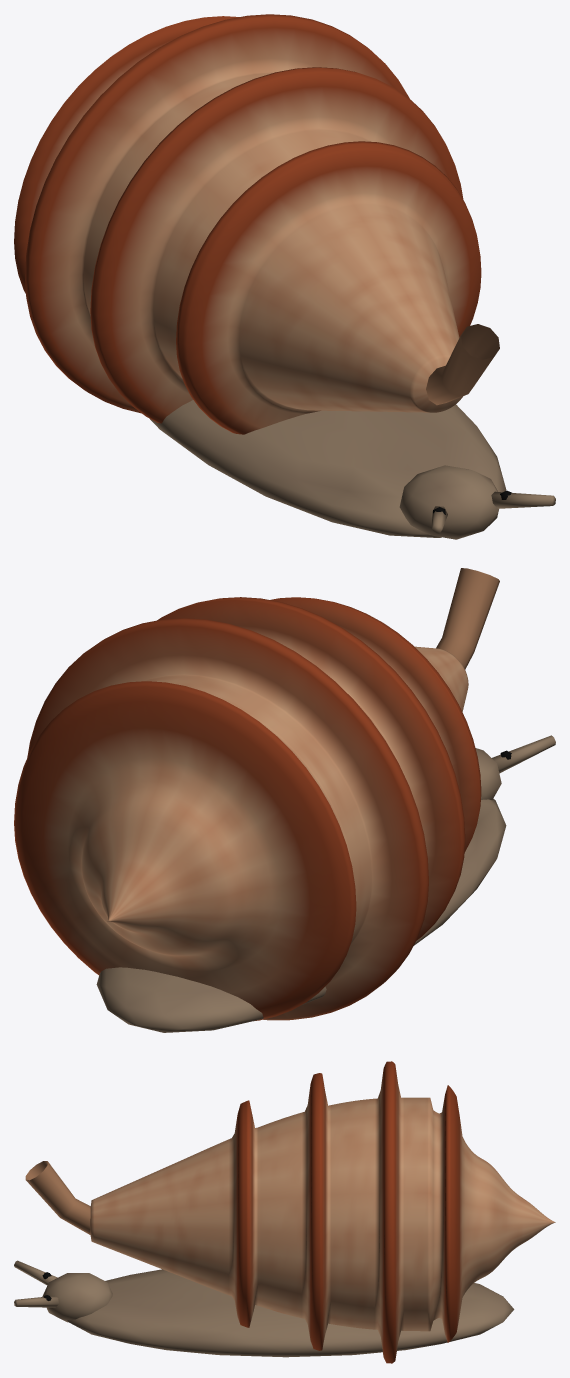
File: EcphoraGardnerae.fbx
3 renders of one model, top to bottom at view 1: azimuth 30°, elevation 25°; view 2: azimuth 150°, elevation 25°; view 3: azimuth 270°, elevation 25°, orthographic. The views are drawn at different scales.
Visible parts, largest first — view 1: EcphoraGardnerae; view 2: EcphoraGardnerae; view 3: EcphoraGardnerae.
Part boxes in pixels (left/top/right/bottom): EcphoraGardnerae: left=14, top=14, right=555, bottom=539; EcphoraGardnerae: left=14, top=568, right=555, bottom=1032; EcphoraGardnerae: left=14, top=1061, right=555, bottom=1363.
Bounding box in the file's own units: 0.6197 × 0.5732 × 1.04.
